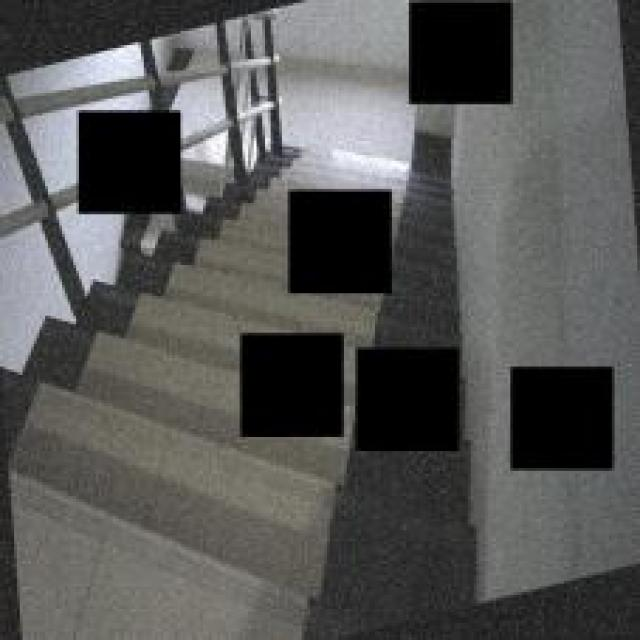downstair: (14, 341, 226, 640)
